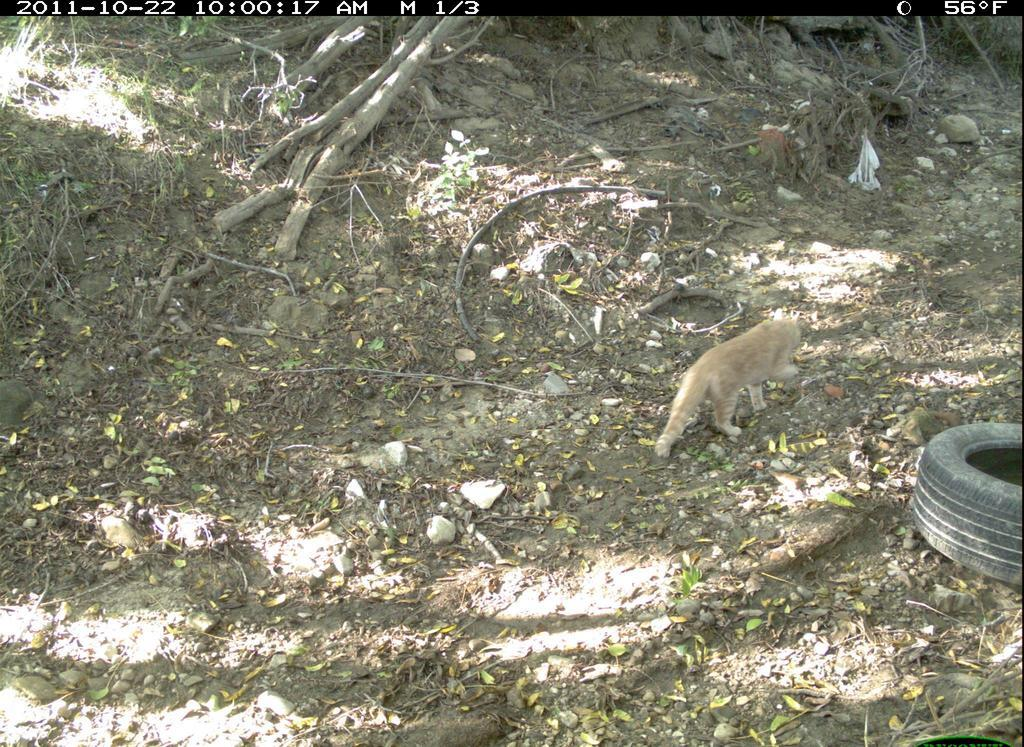cat: (643, 308, 841, 459)
